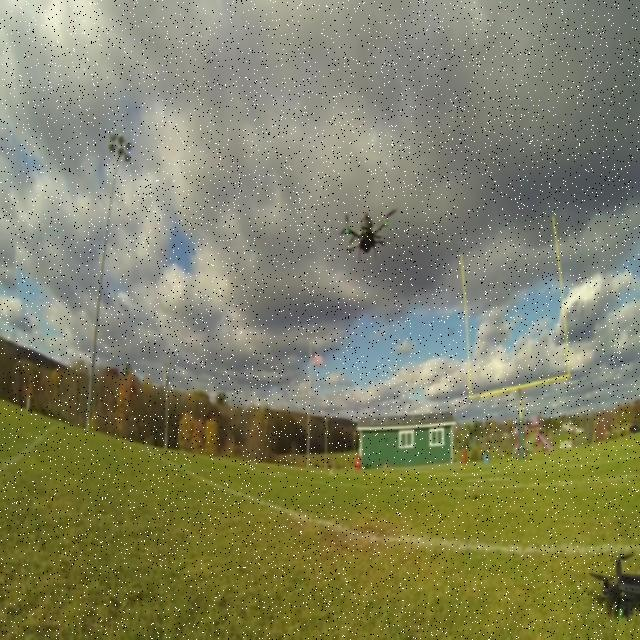UAV: (588, 554, 640, 618), (339, 209, 398, 263)
